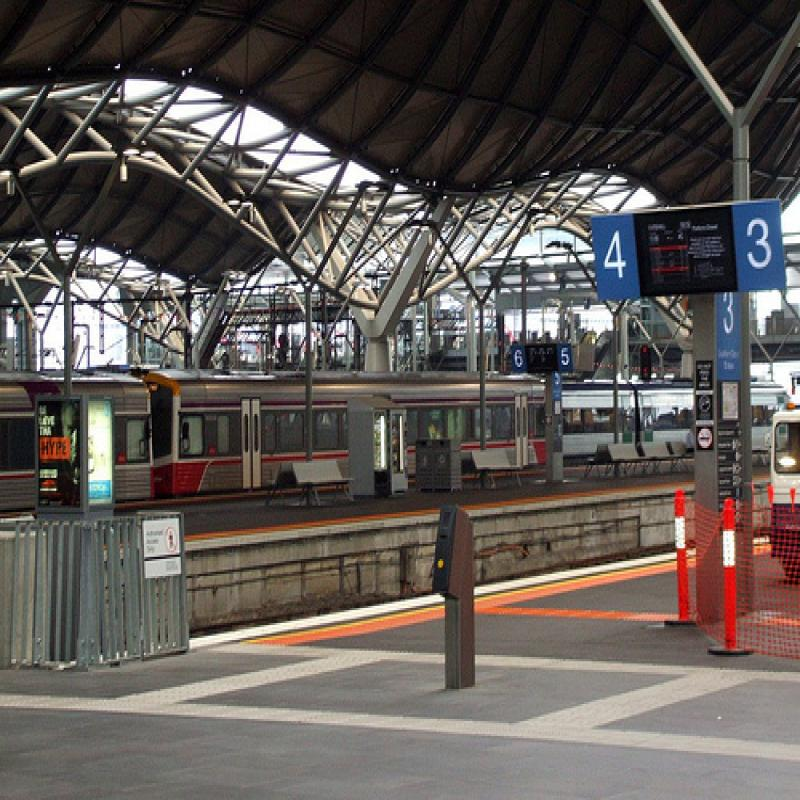train: (1, 376, 545, 509), (566, 383, 695, 457)
